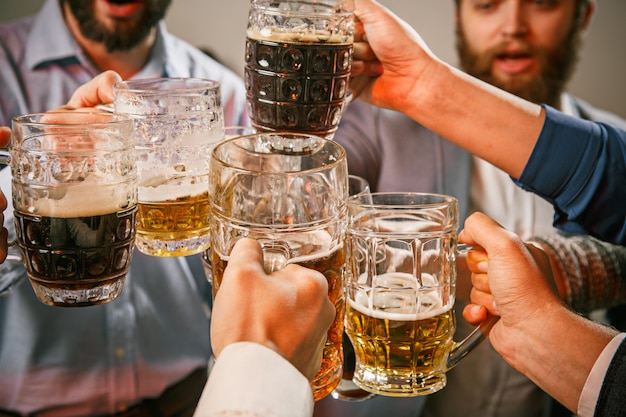alcohol: (207, 134, 351, 398), (344, 195, 501, 398), (7, 112, 137, 306), (94, 77, 225, 256), (244, 1, 380, 157)
